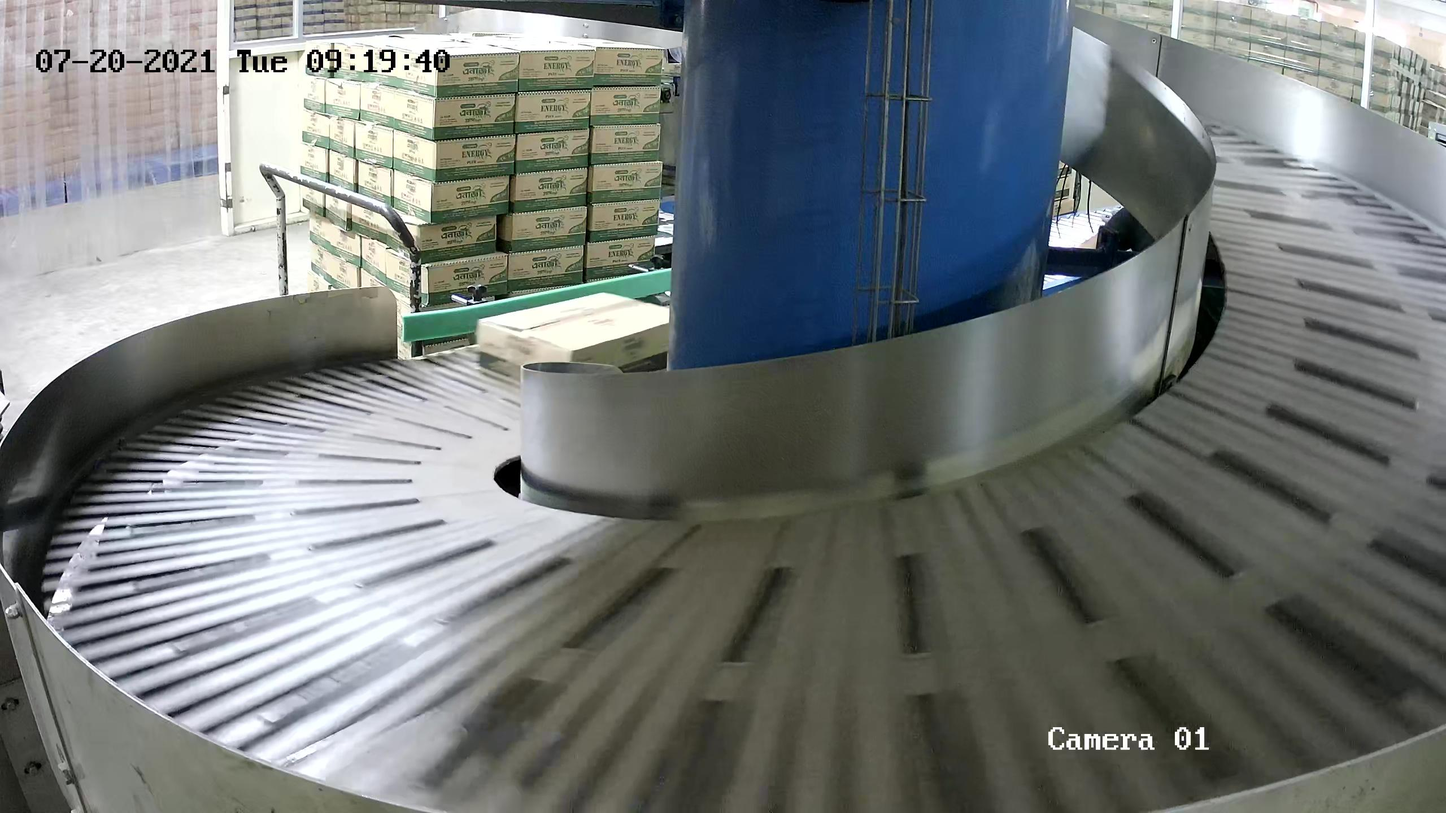Box: (475, 291, 670, 385)
